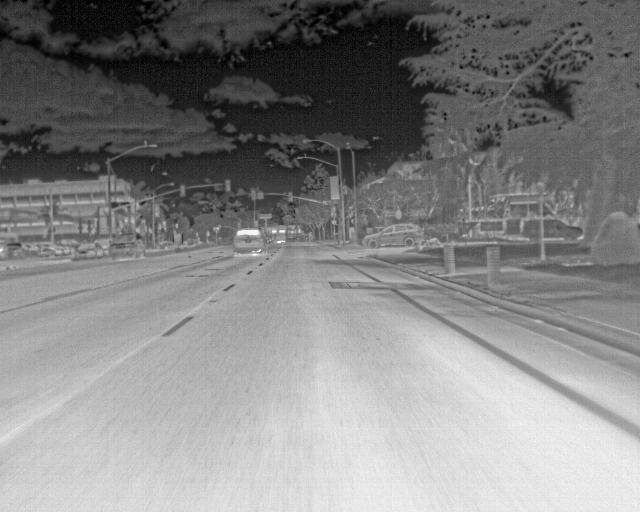car: (361, 222, 423, 249), (109, 234, 147, 261), (232, 225, 266, 255), (542, 217, 582, 242), (74, 242, 108, 262), (524, 218, 540, 242), (98, 238, 112, 254)
